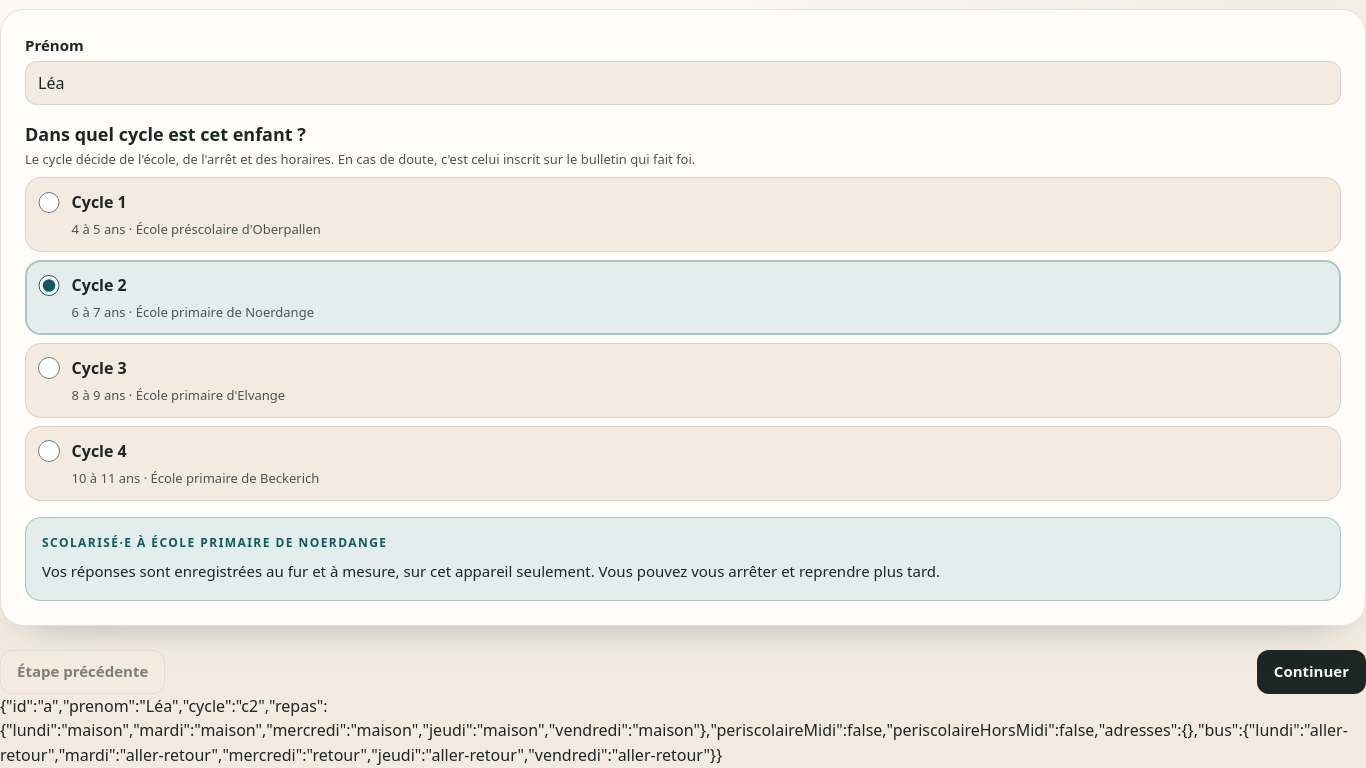
Scenario: une question par moment de la journée › ouvre la grille d’elle-même quand la semaine est déjà irrégulière
The image size is (1366, 768).
(page scrolled)
Click the button "Continuer" at (1311, 672), box [1257,650,1365,694]
(page scrolled)
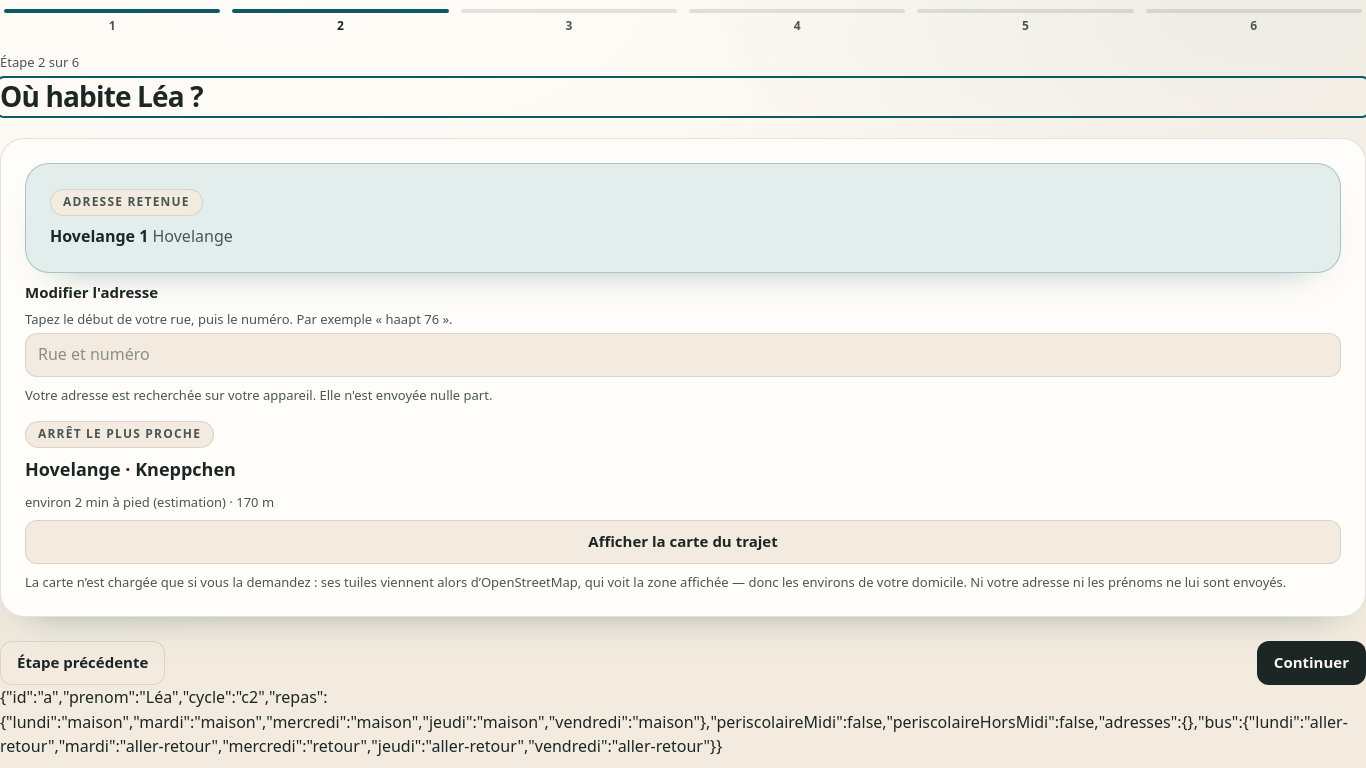
Click the button "Continuer" at (1311, 663), box [1257,641,1365,685]
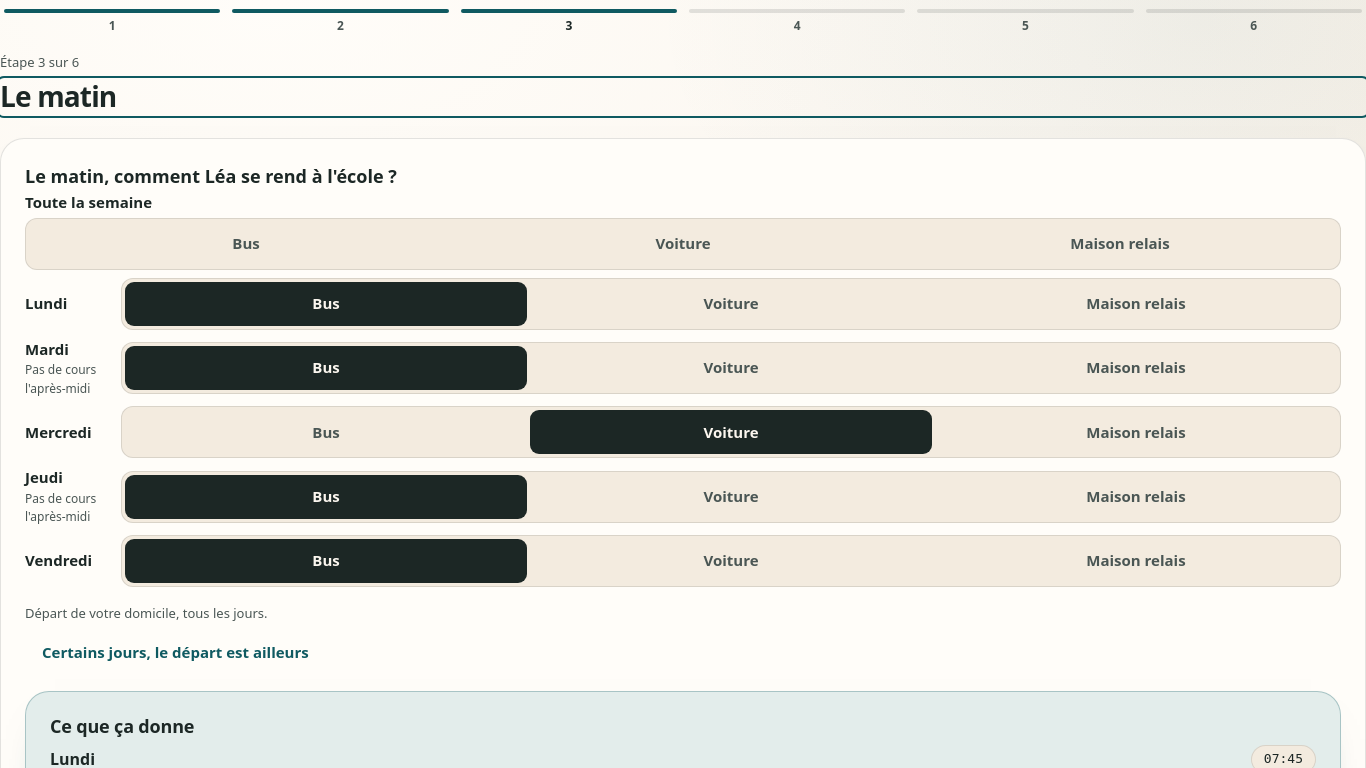
Expected: the element named "Toute la semaine" is shown, [25,218,1341,270]
